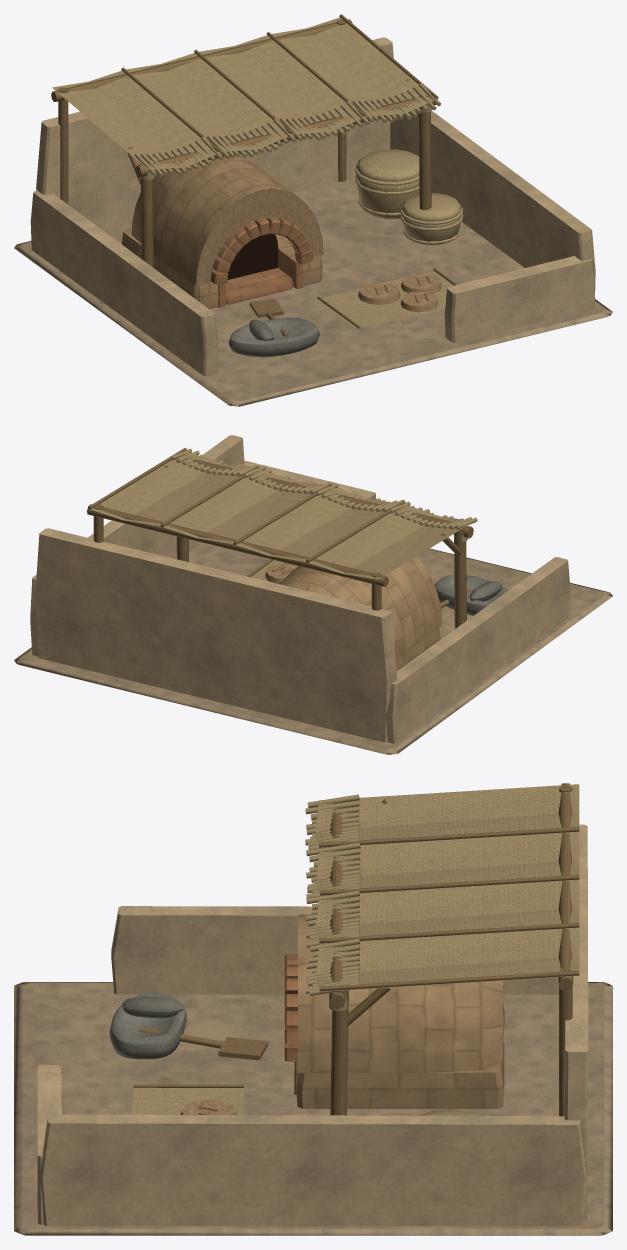
File: bakery.glb
3 renders of one model, top to bottom at view 1: azimuth 30°, elevation 25°; view 2: azimuth 150°, elevation 25°; view 3: azimuth 270°, elevation 25°, orthographic. The views are drawn at different scales.
Visible parts, largest first — view 1: original-bakery-warm-clay-plaster, original-bakery-reed-mat, original-bakery-alluvial-earth, original-bakery-game-raw-brick-facing, original-bakery-worn-timber, original-bakery-game-fired-brick-facing, workshop-bakery-handmade-yard-craft, original-bakery-game-door-shadow; view 2: original-bakery-warm-clay-plaster, original-bakery-reed-mat, original-bakery-alluvial-earth, original-bakery-worn-timber, original-bakery-game-raw-brick-facing, workshop-bakery-handmade-yard-craft; view 3: original-bakery-warm-clay-plaster, original-bakery-reed-mat, original-bakery-alluvial-earth, original-bakery-game-raw-brick-facing, original-bakery-worn-timber, workshop-bakery-handmade-yard-craft, original-bakery-game-fired-brick-facing.
Boxes of the visible parts, x1=… form: original-bakery-warm-clay-plaster: x1=30, y1=37, x2=595, y2=376; original-bakery-reed-mat: x1=52, y1=17, x2=463, y2=328; original-bakery-alluvial-earth: x1=14, y1=177, x2=612, y2=406; original-bakery-game-raw-brick-facing: x1=122, y1=155, x2=441, y2=312; original-bakery-worn-timber: x1=51, y1=14, x2=457, y2=336; original-bakery-game-fired-brick-facing: x1=210, y1=217, x2=430, y2=307; workshop-bakery-handmade-yard-craft: x1=228, y1=317, x2=319, y2=356; original-bakery-game-door-shadow: x1=227, y1=234, x2=278, y2=279; original-bakery-warm-clay-plaster: x1=30, y1=435, x2=570, y2=743; original-bakery-reed-mat: x1=90, y1=448, x2=477, y2=581; original-bakery-alluvial-earth: x1=14, y1=542, x2=612, y2=754; original-bakery-worn-timber: x1=87, y1=448, x2=473, y2=628; original-bakery-game-raw-brick-facing: x1=265, y1=556, x2=442, y2=670; workshop-bakery-handmade-yard-craft: x1=434, y1=574, x2=507, y2=615; original-bakery-warm-clay-plaster: x1=37, y1=824, x2=588, y2=1226; original-bakery-reed-mat: x1=131, y1=784, x2=579, y2=1115; original-bakery-alluvial-earth: x1=14, y1=982, x2=612, y2=1235; original-bakery-game-raw-brick-facing: x1=180, y1=914, x2=504, y2=1114; original-bakery-worn-timber: x1=133, y1=783, x2=579, y2=1116; workshop-bakery-handmade-yard-craft: x1=109, y1=991, x2=186, y2=1059; original-bakery-game-fired-brick-facing: x1=198, y1=954, x2=504, y2=1114.
Bounding box in the file's own units: 5.37 × 2.21 × 5.37.
8 materials, 7 textured.
